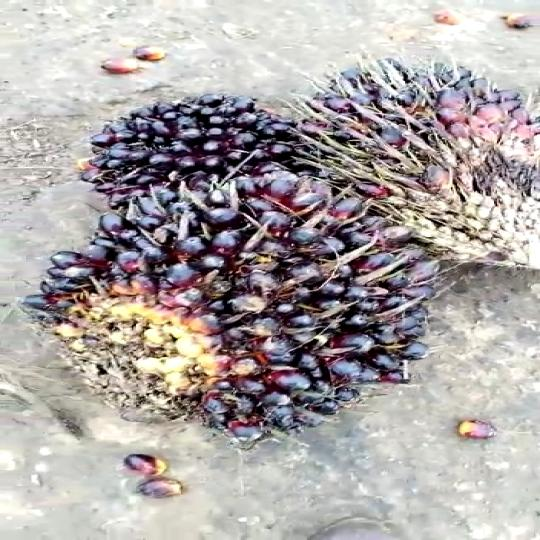kurang masak: (48, 173, 442, 444), (320, 63, 540, 280), (74, 93, 324, 194)
